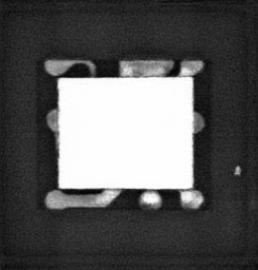DIE_INK: (234, 164, 241, 176)
